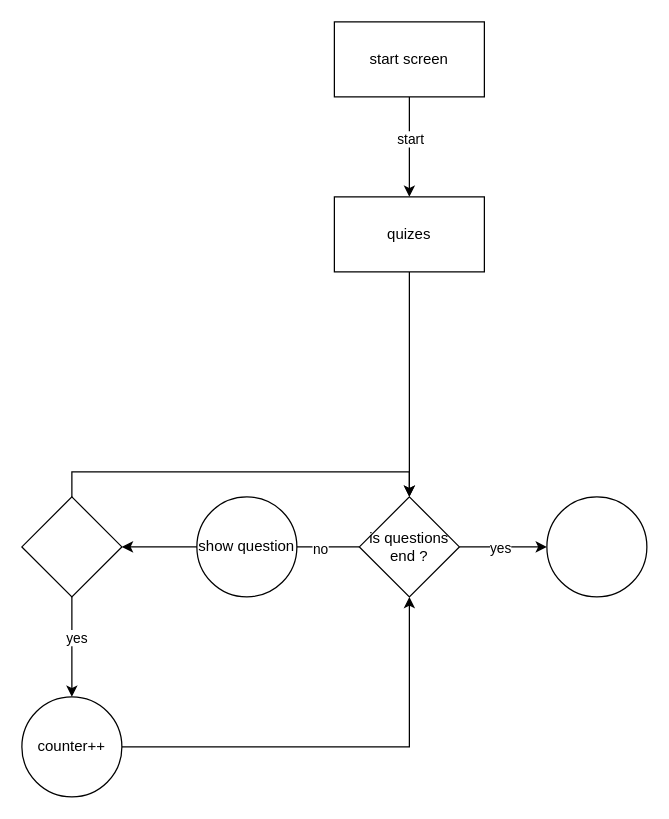
The diagram is 669 pixels wide and 819 high, and some of its shapes have lost their labels. The centre of each missing label's shape, as x and y in pixels:
"is question correct ?" belongs at (x=71, y=546).
"show the result" belongs at (x=596, y=546).
